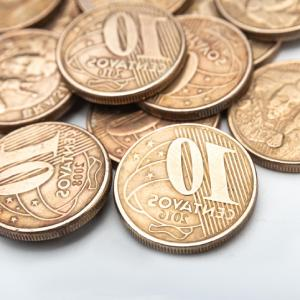10 cent: (112, 122, 258, 255), (51, 0, 190, 100), (0, 120, 111, 242)
